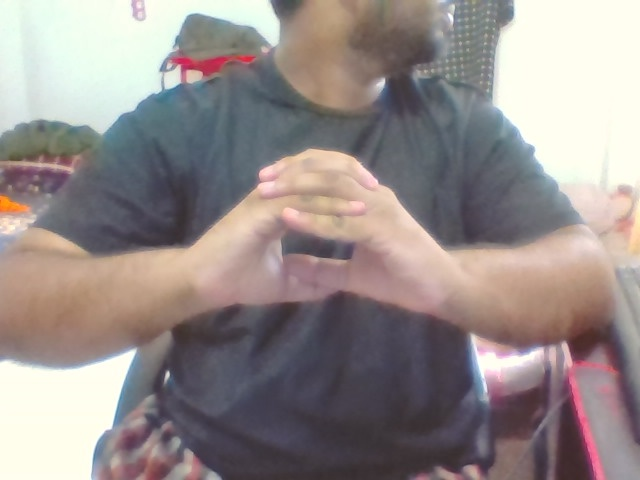O: (212, 140, 427, 324)
